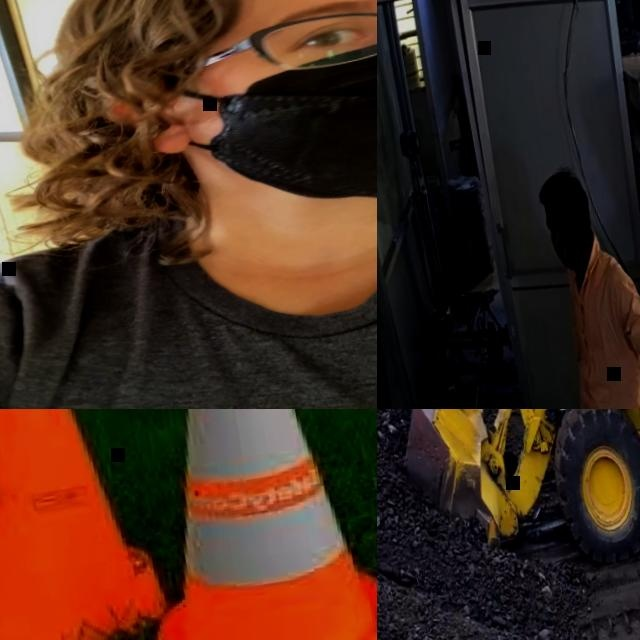Mask: (152, 10, 377, 236), (552, 229, 571, 268)
NO-Hardhat: (536, 164, 590, 213)
NO-Safety Vest: (0, 142, 377, 409), (552, 250, 640, 409)
Person: (0, 0, 377, 409), (534, 145, 640, 409)
Safety Cone: (76, 409, 377, 640), (0, 409, 177, 640)
machinery: (377, 409, 640, 605)
